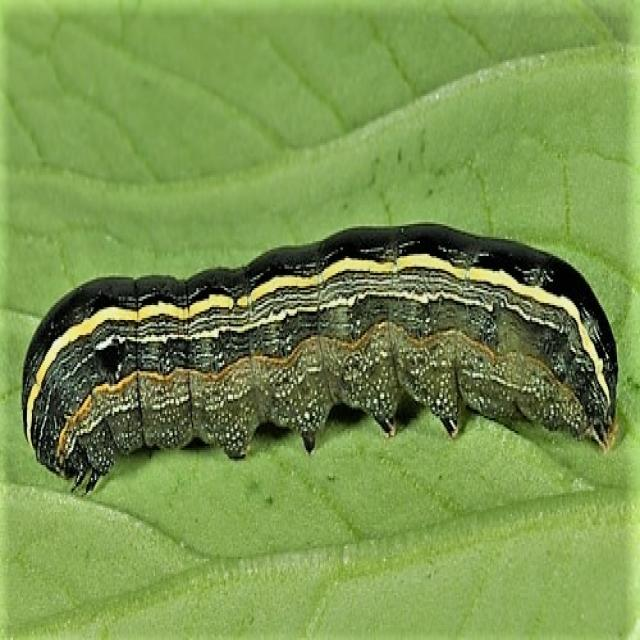armyworm: (21, 220, 618, 497)
